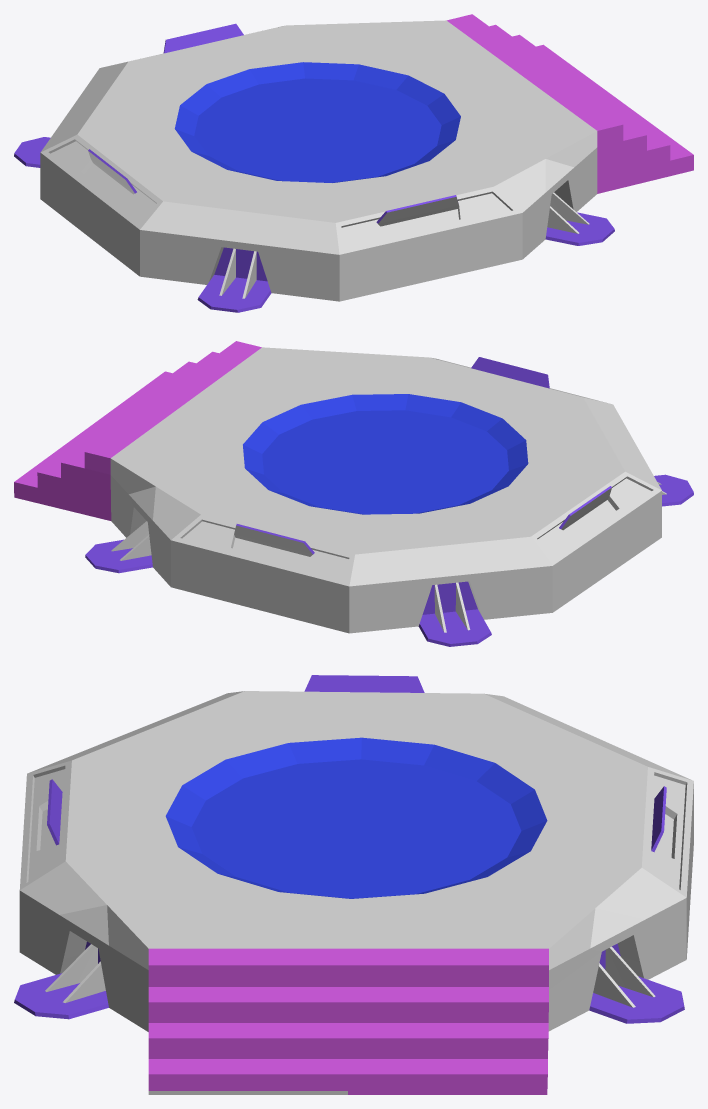
Rendered from Teleportation.fbx.
The picture shows the model from 3 angles, top to bottom: view 1: azimuth 30°, elevation 25°; view 2: azimuth 150°, elevation 25°; view 3: azimuth 270°, elevation 25°; orthographic projection. The views are drawn at different scales.
Visible parts, largest first — view 1: TP; view 2: TP; view 3: TP.
Boxes of the visible parts, bbox=[...] form: TP: bbox=[14, 14, 693, 312]; TP: bbox=[14, 341, 693, 646]; TP: bbox=[14, 675, 693, 1094].
Bounding box in the file's own units: 297 × 38.14 × 251.
